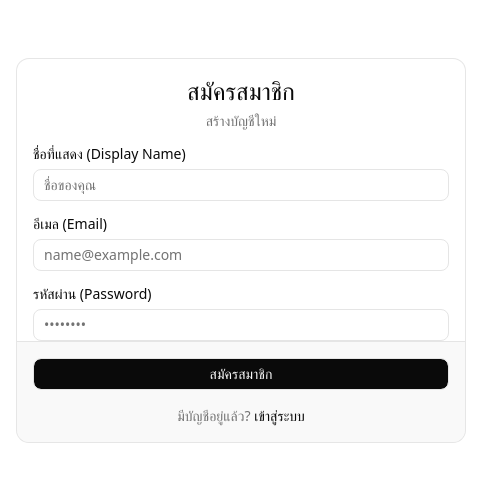
it: RegisterPage › validates display name, email and password on submit
This screenshot has width=483, height=502.
# Submit empty form
Click the button "สมัครสมาชิก" at (241, 374), box [33,358,449,390]
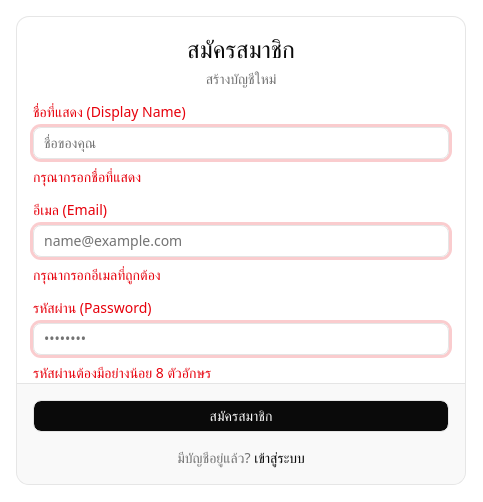
Expected: the text "กรุณากรอกชื่อที่แสดง" is shown, [33,166,141,186]
Expected: the text "กรุณากรอกอีเมลที่ถูกต้อง" is shown, [33,264,161,284]
Expected: the text "รหัสผ่านต้องมีอย่างน้อย 8 ตัวอักษร" is shown, [33,362,211,382]
